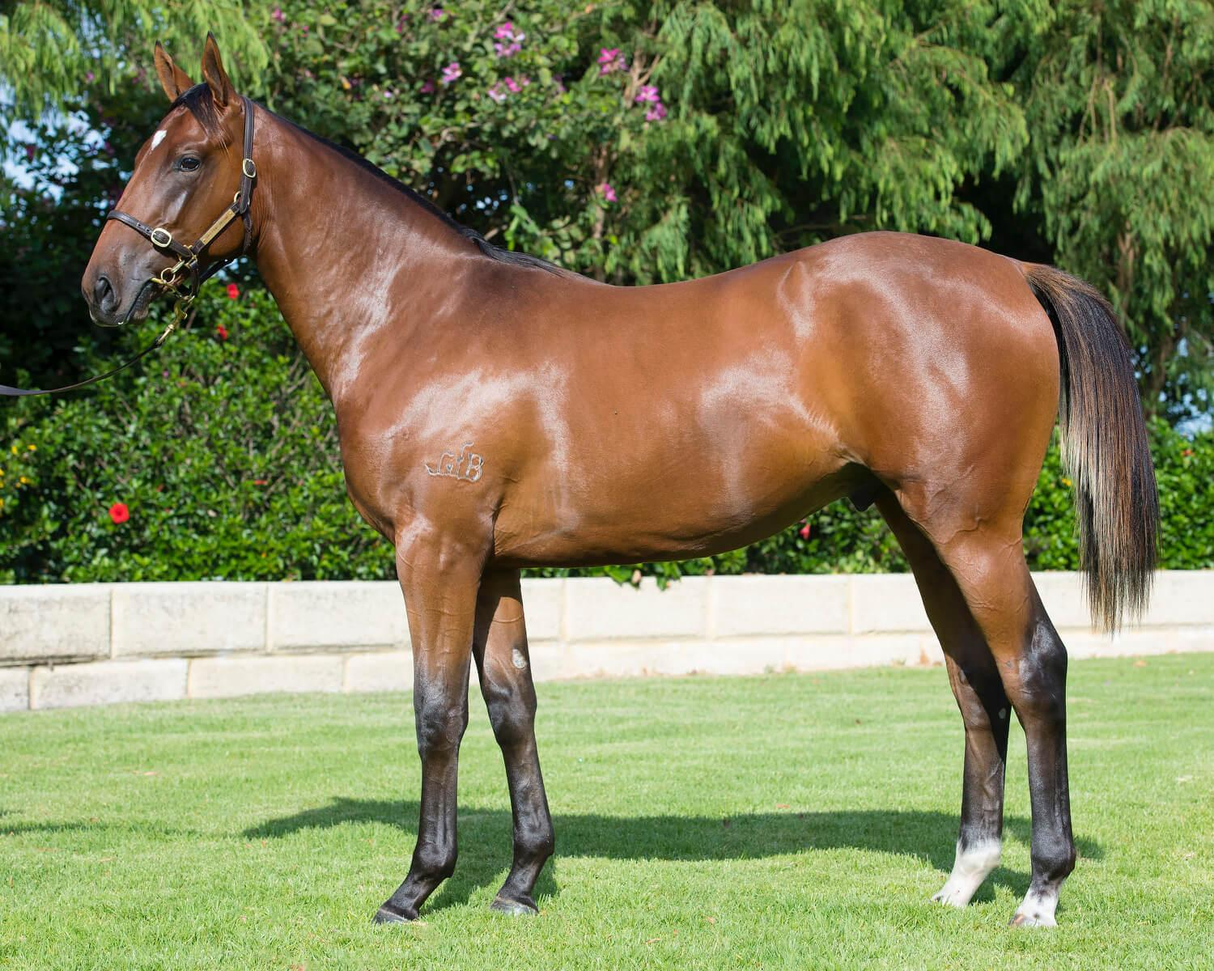horse: (68, 26, 1177, 940)
